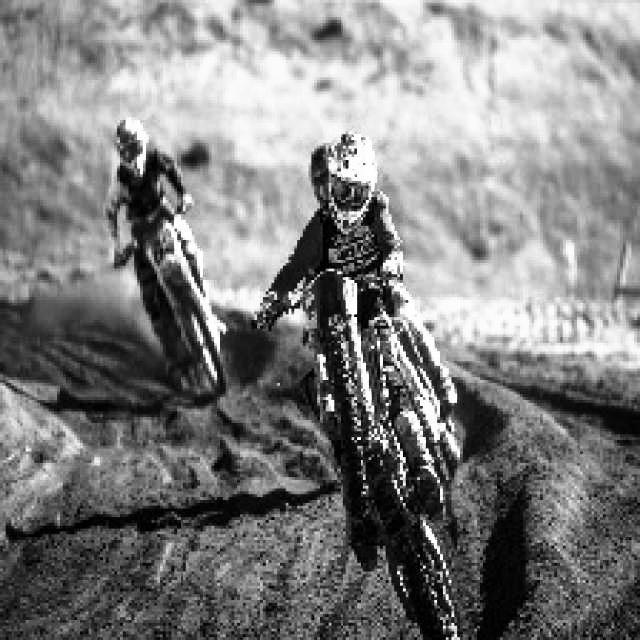Bike: (296, 262, 458, 639), (120, 204, 231, 381)
